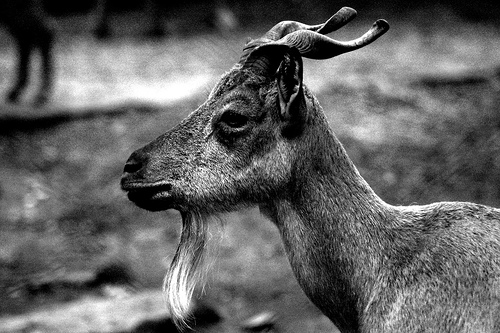goat: (118, 7, 497, 333)
